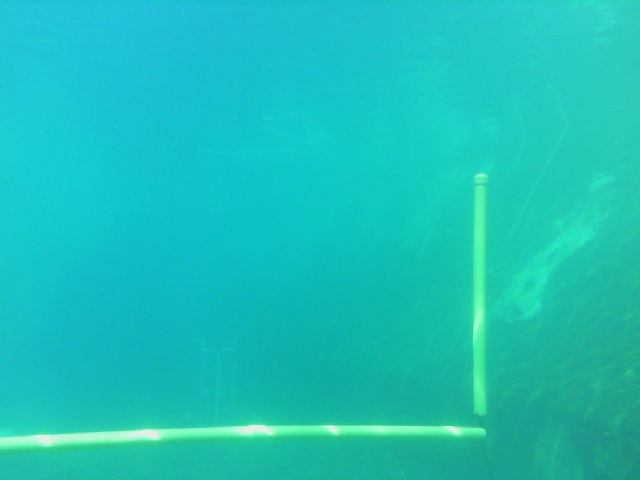channel: (3, 164, 494, 448)
